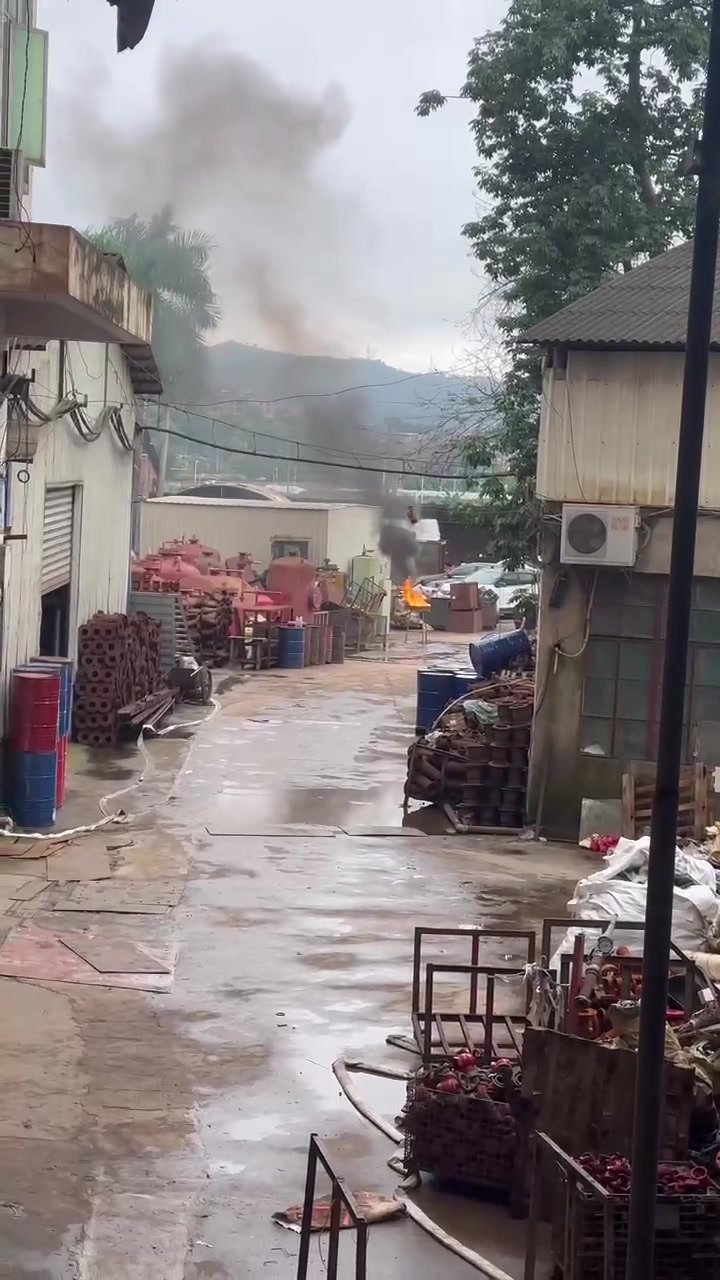fire: (401, 577, 429, 605)
